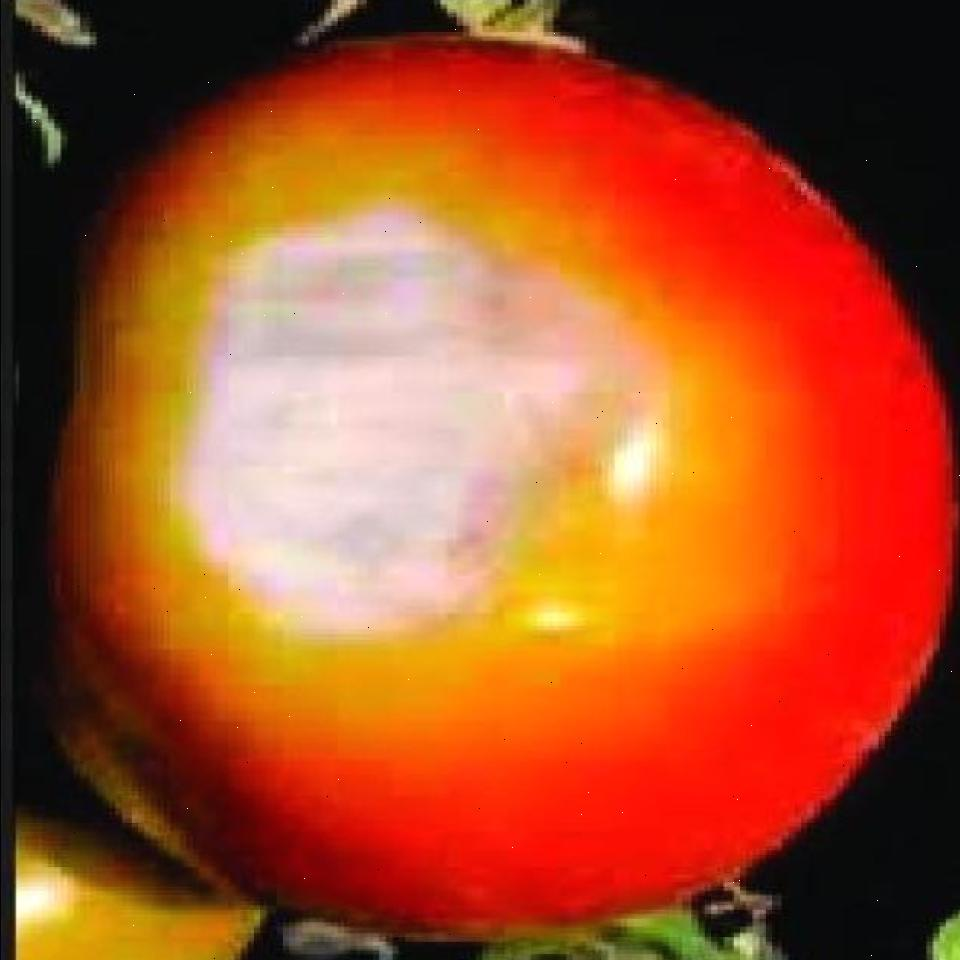Sunscald: (132, 179, 702, 709)
